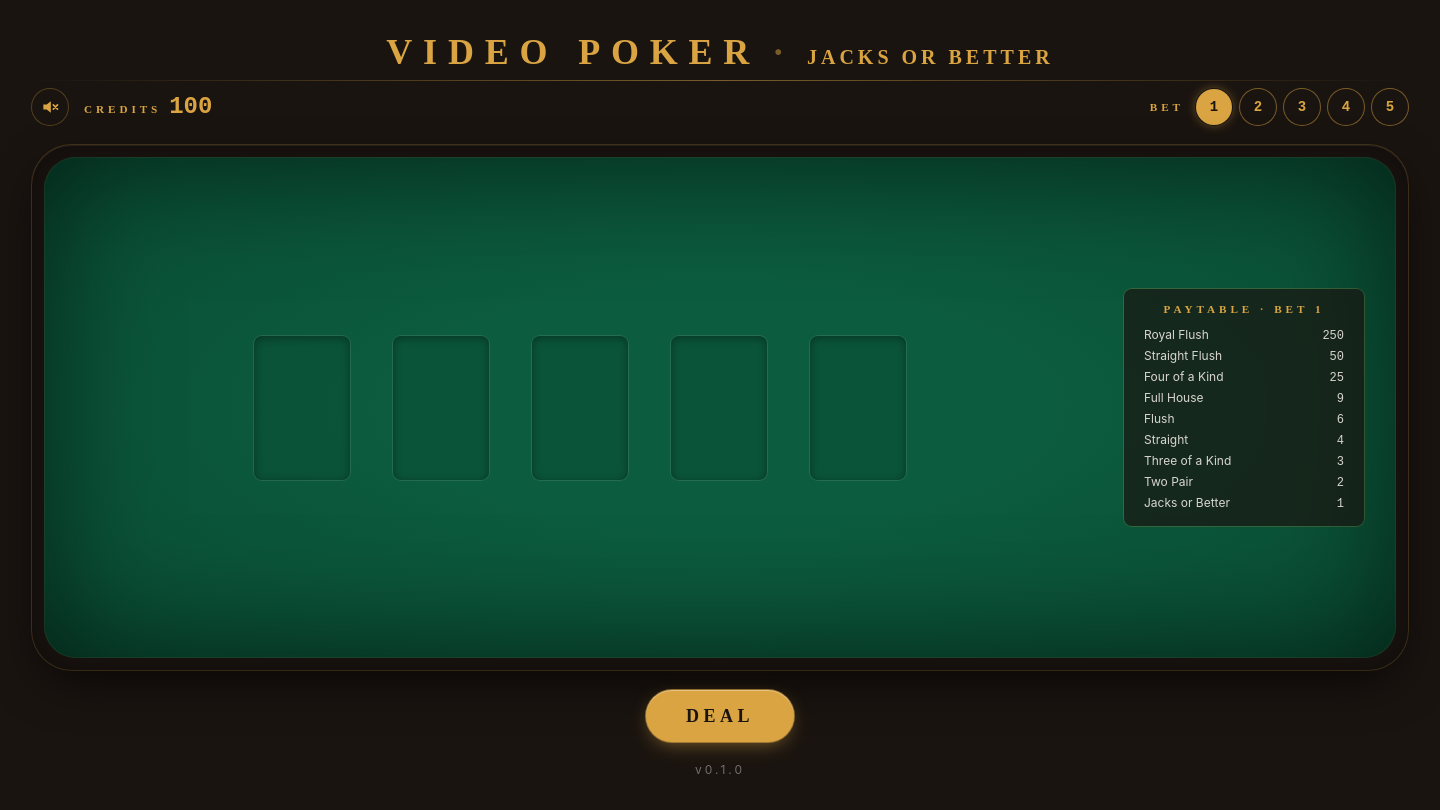
Test case: App › deals five holdable cards on DEAL and flips the button to DRAW
The width and height of the screenshot is (1440, 810).
Click the button "DEAL".
click(720, 716)  # box [646, 690, 794, 742]
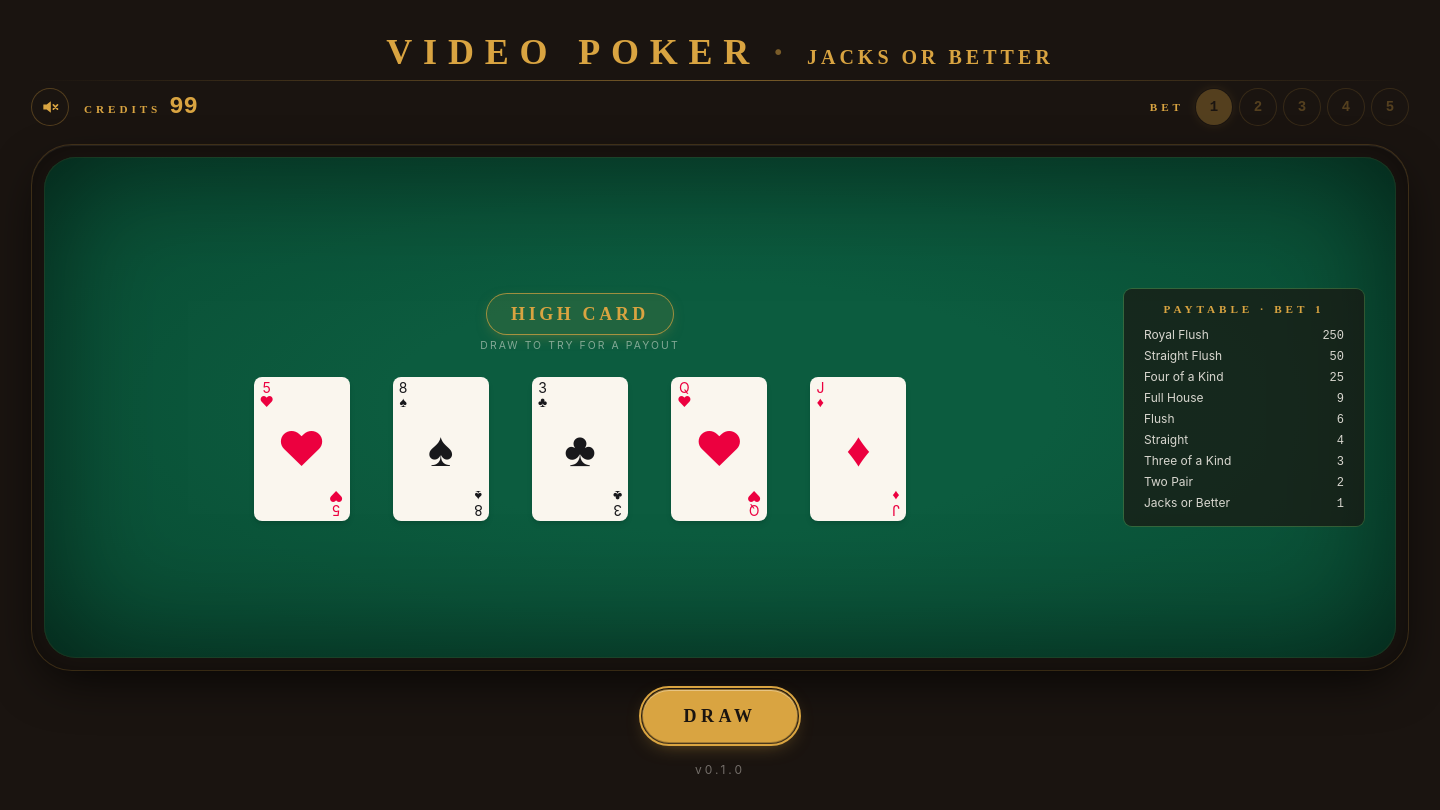
Expected: no elements with test id "empty-slot" are shown
Expected: the button "DRAW" is shown, [644, 690, 796, 742]
